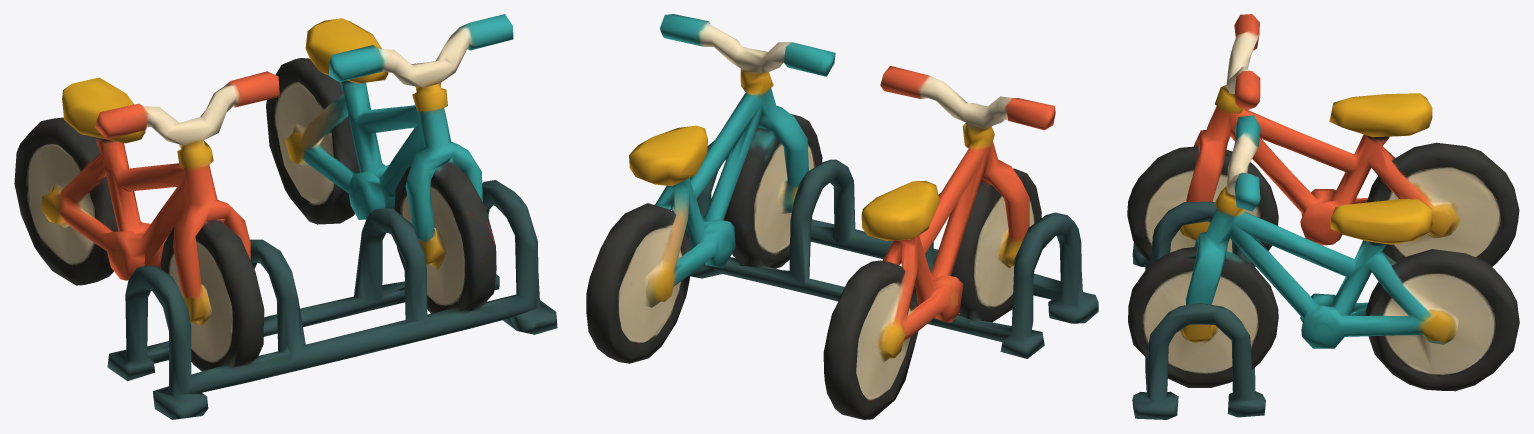
The model's file is city-bike-rack.glb.
3 views of the same model, side by side, from view 1: azimuth 30°, elevation 25°; view 2: azimuth 150°, elevation 25°; view 3: azimuth 270°, elevation 25° (orthographic). The views are drawn at different scales.
Visible parts, largest first — view 1: city-bike-rack; view 2: city-bike-rack; view 3: city-bike-rack.
Boxes of the visible parts, x1=… form: city-bike-rack: x1=14, y1=14, x2=557, y2=419; city-bike-rack: x1=586, y1=14, x2=1098, y2=419; city-bike-rack: x1=1127, y1=14, x2=1519, y2=419.
Size of the model in its own units: 1.7 by 1.06 by 1.6.
1 material, 1 textured.
